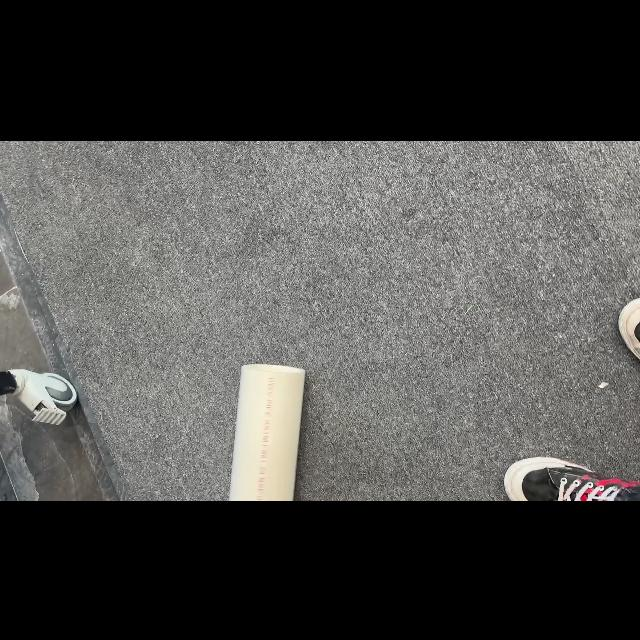CORAL: (228, 362, 306, 500), (4, 368, 78, 424)
